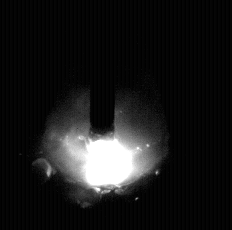arame: (91, 0, 115, 142)
poca: (40, 0, 169, 230)
